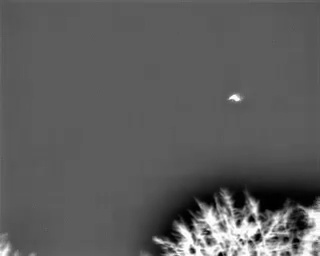BIRD: (225, 90, 246, 106)
